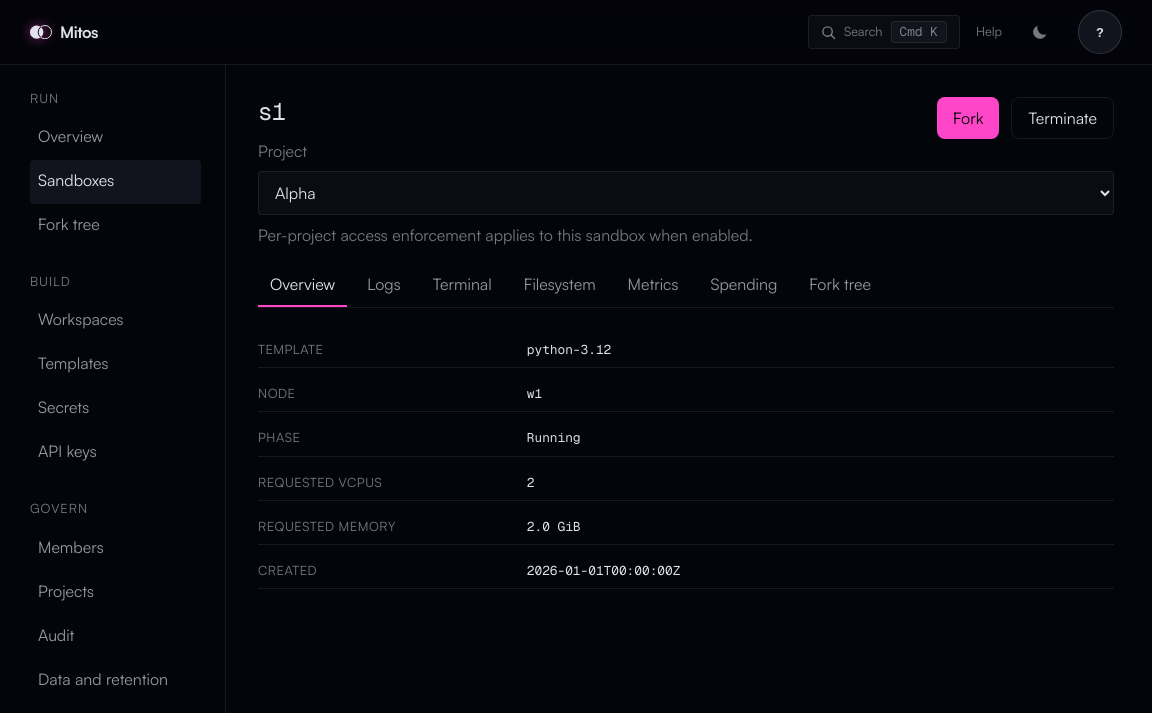
Test: SandboxDetail › Terminal tab shows the RunCommand panel with honest PTY copy and runs a command
Check: the heading "s1" is shown, box [258, 100, 285, 124]
Click the tab "Terminal" at x=462, y=285, box [421, 263, 504, 307]
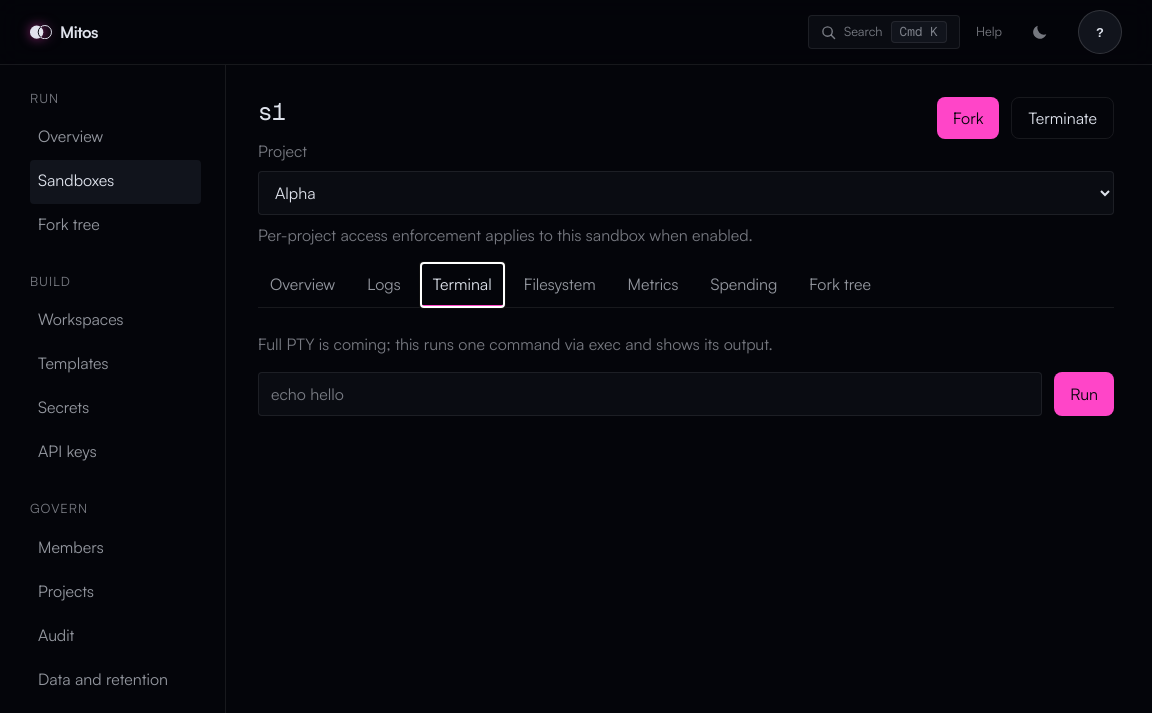
Check: the text "Full PTY is coming" is shown, box [258, 334, 773, 354]
Type "echo hi" into the field named "command" at x=650, y=394, box [258, 372, 1042, 416]
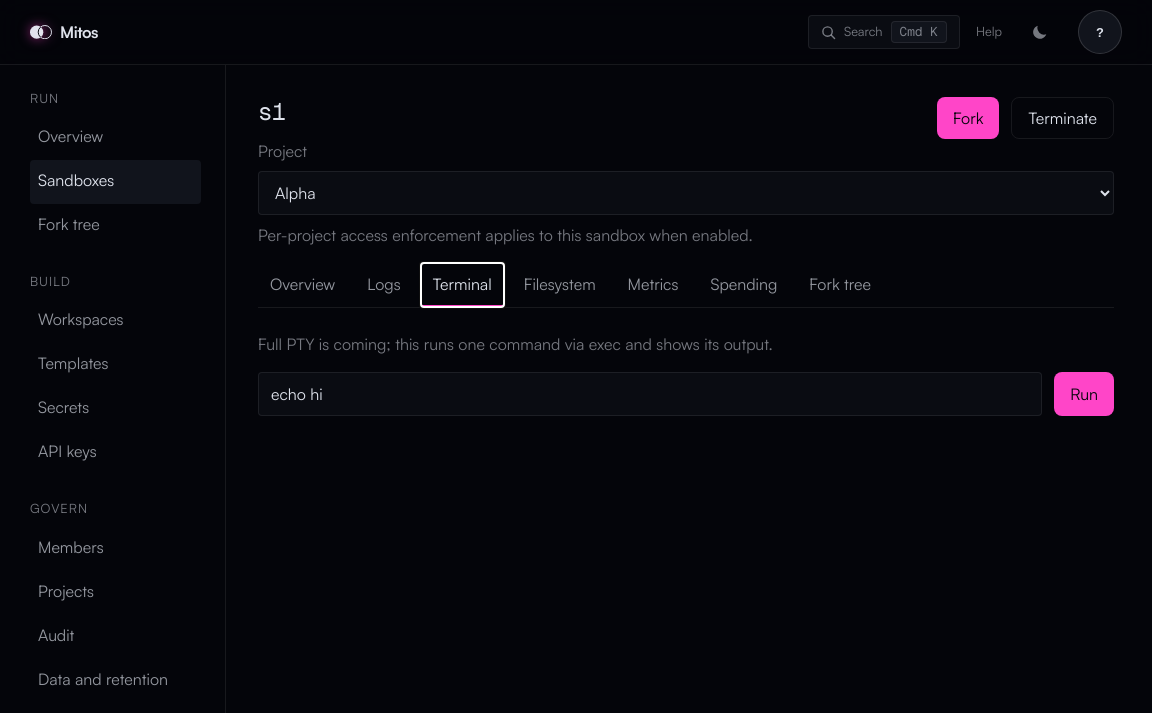
Click the button "Run" at x=1084, y=394, box [1054, 372, 1114, 416]
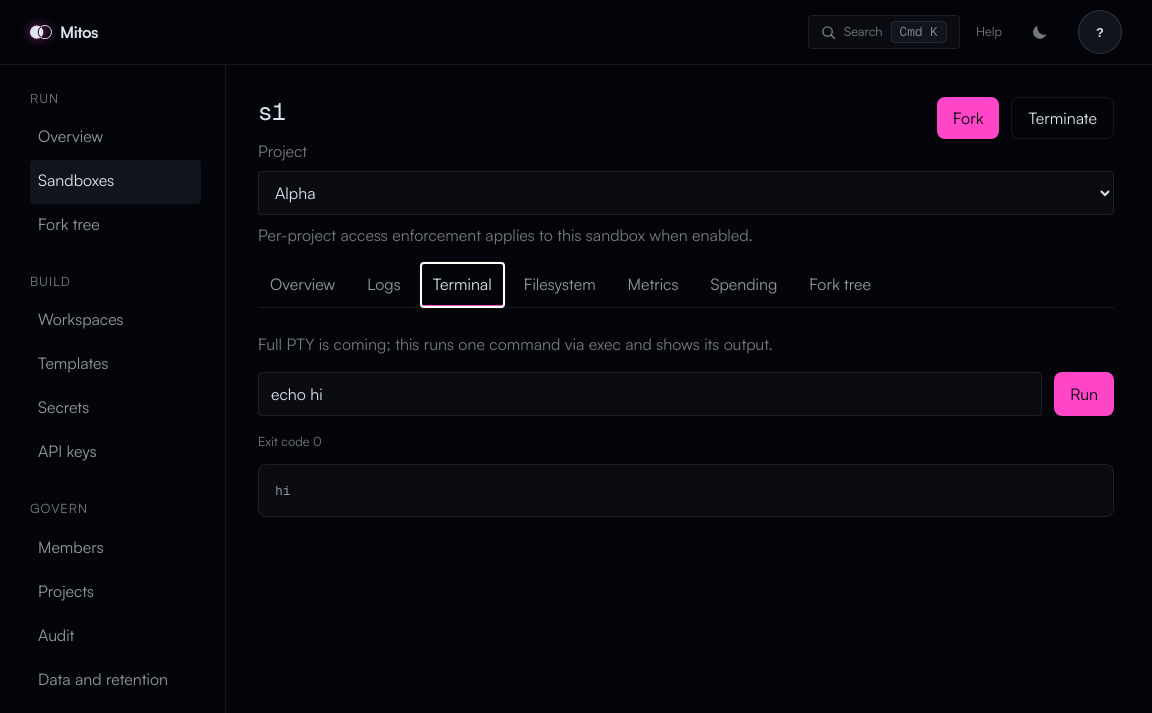
Check: the text "hi" is shown, box [258, 464, 1114, 517]
Check: the text "Exit code 0" is shown, box [258, 433, 322, 449]
